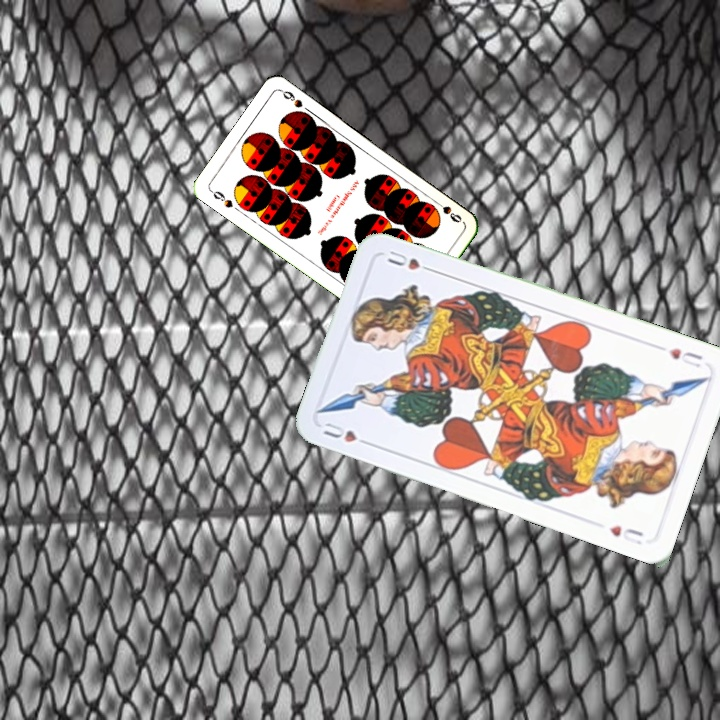HU: (319, 418, 375, 449), (664, 344, 705, 371)
S9: (430, 196, 464, 226), (206, 186, 235, 211)
